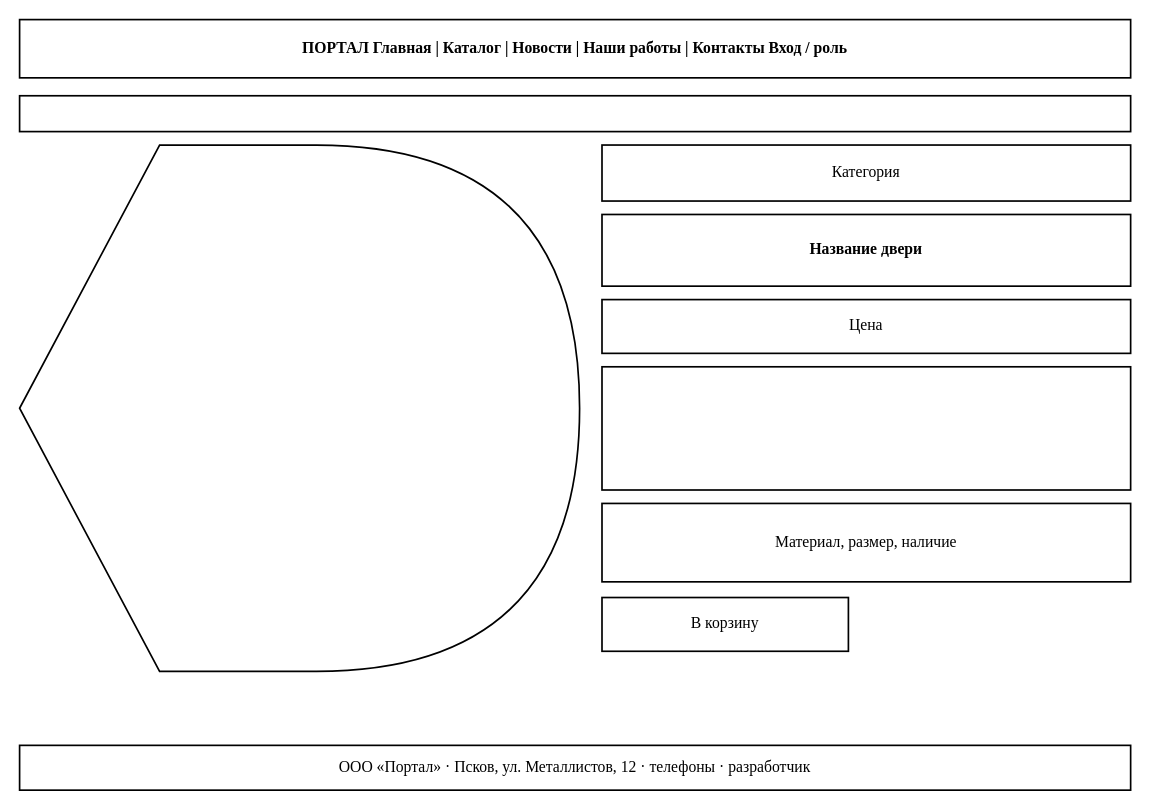
The diagram is 1151 pixels wide and 811 high, and some of its shapes have lost their labels. Each missing label, with the box of its shape:
Каталог / категория: (18, 94, 1131, 132)
Описание: (601, 365, 1131, 490)
Фотография двери: (18, 144, 580, 672)
